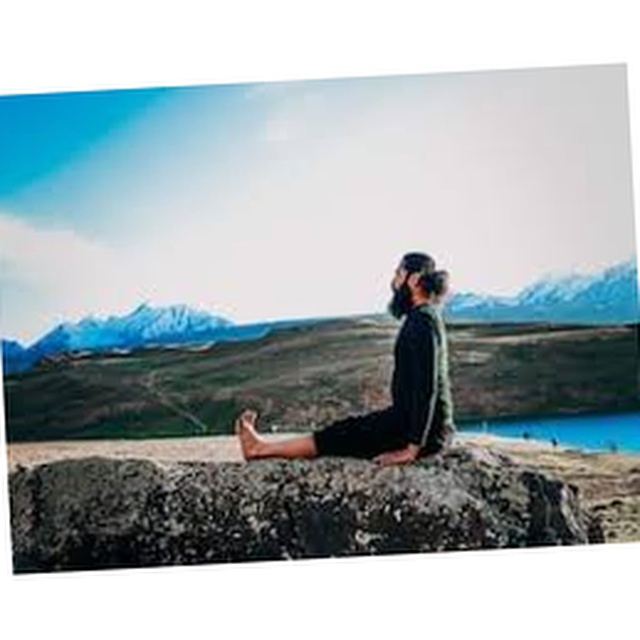Staff_Pose: (236, 252, 456, 466)
